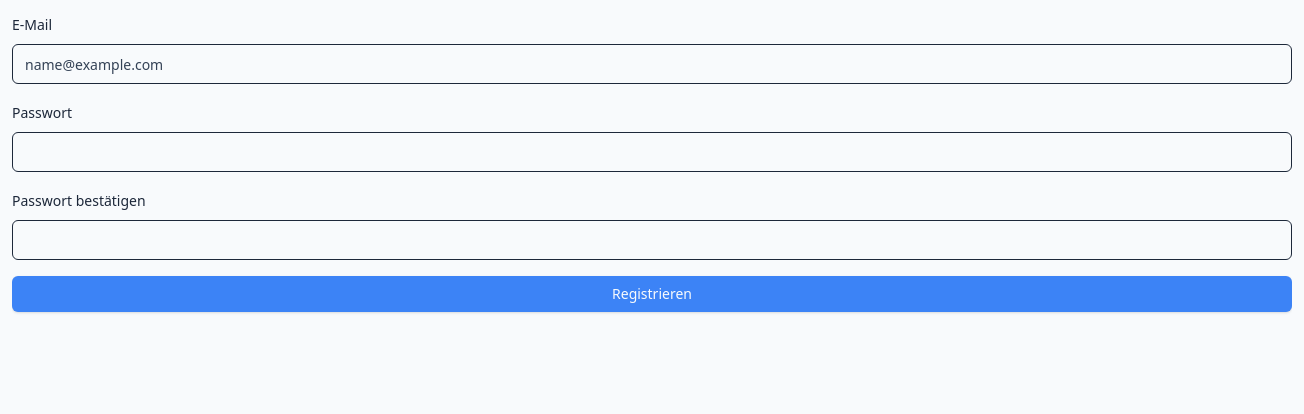
Test: RegistrationForm › validates password requirements
The image size is (1304, 414).
Zu kurzes Passwort eingeben
Type "123" into the password field labelled "Passwort". click: {"x": 652, "y": 152}
box: x1=12 y1=132 x2=1292 y2=172
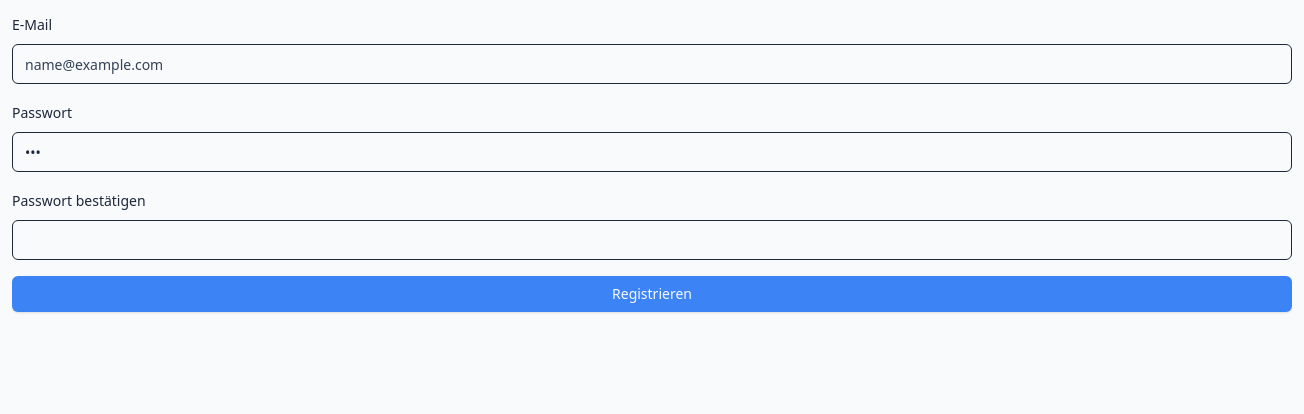
Click the button "Registrieren". click: {"x": 652, "y": 294}
box: x1=12 y1=276 x2=1292 y2=312
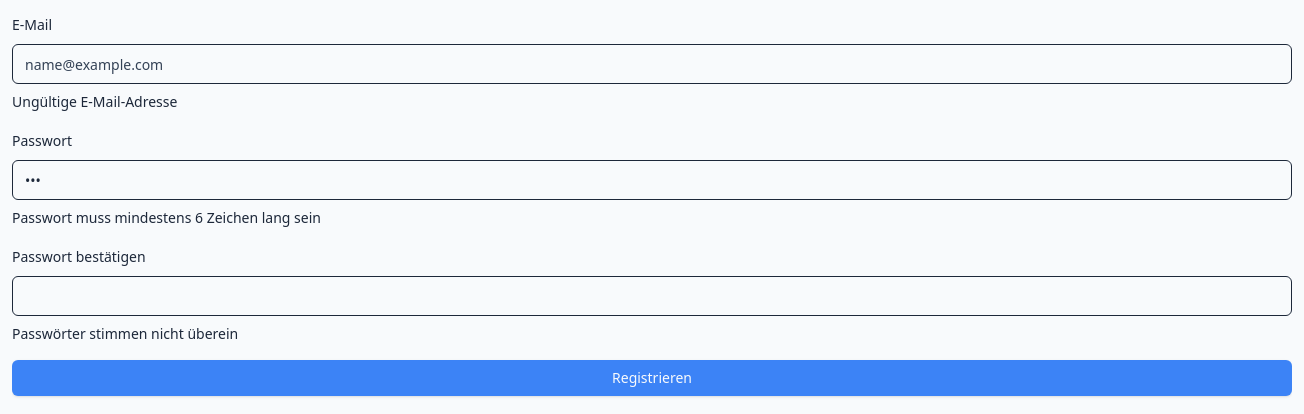
Check: the text "Passwort muss mindestens 6 Zeichen lang sein" is shown, box x1=12 y1=208 x2=321 y2=227
